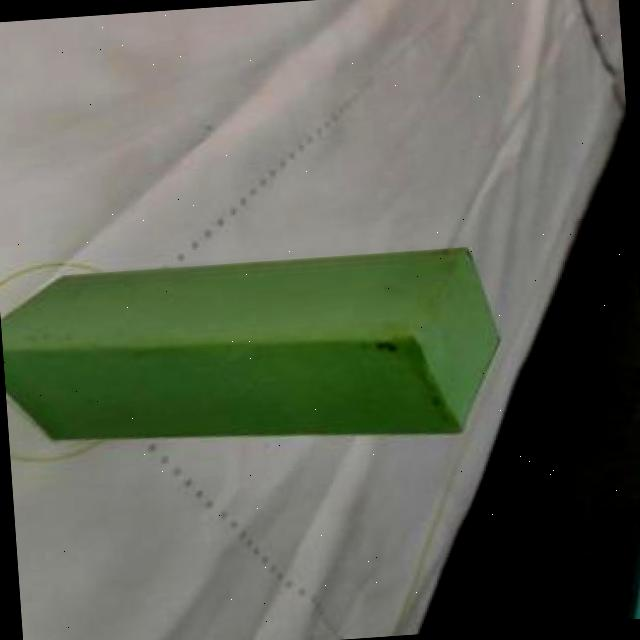greenbox: (0, 238, 513, 465)
